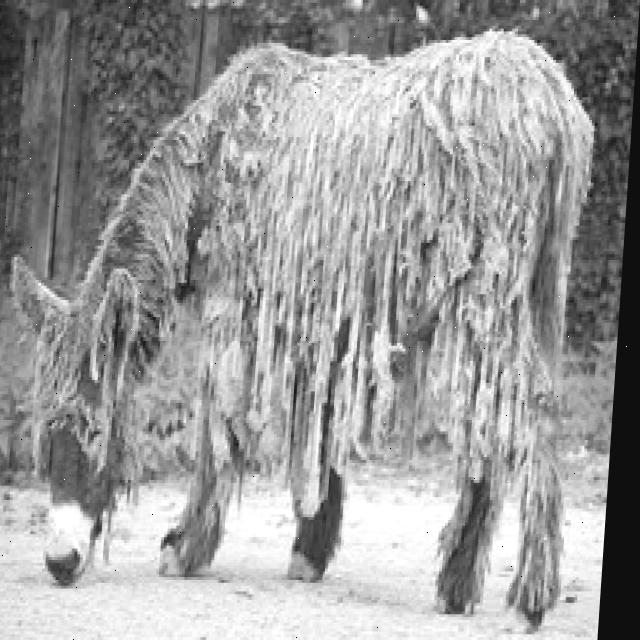Donkey: (0, 26, 604, 628)
